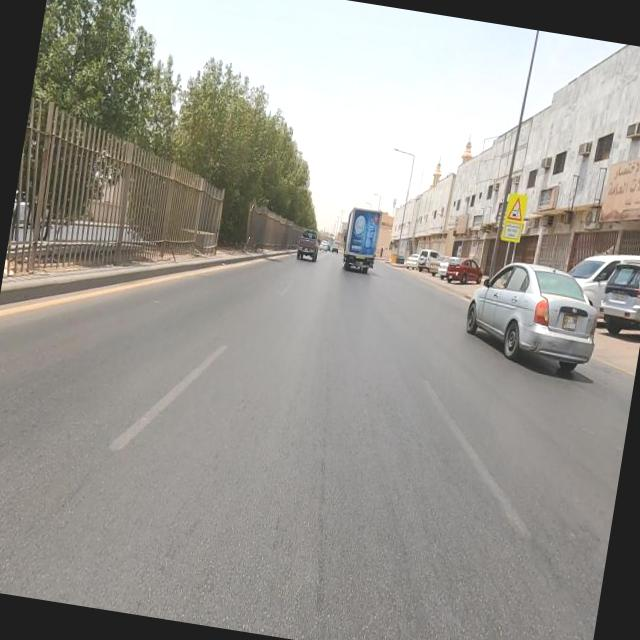debris: (563, 133, 640, 247), (432, 185, 494, 253), (457, 185, 498, 247)
